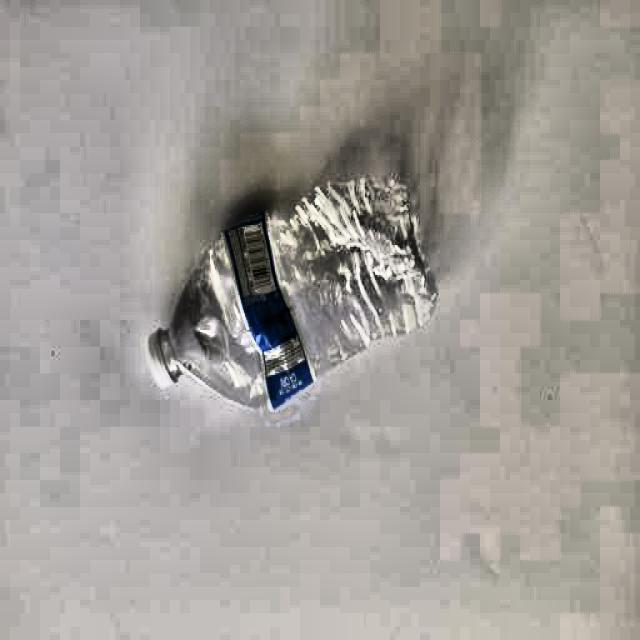plastic: (145, 176, 444, 403)
